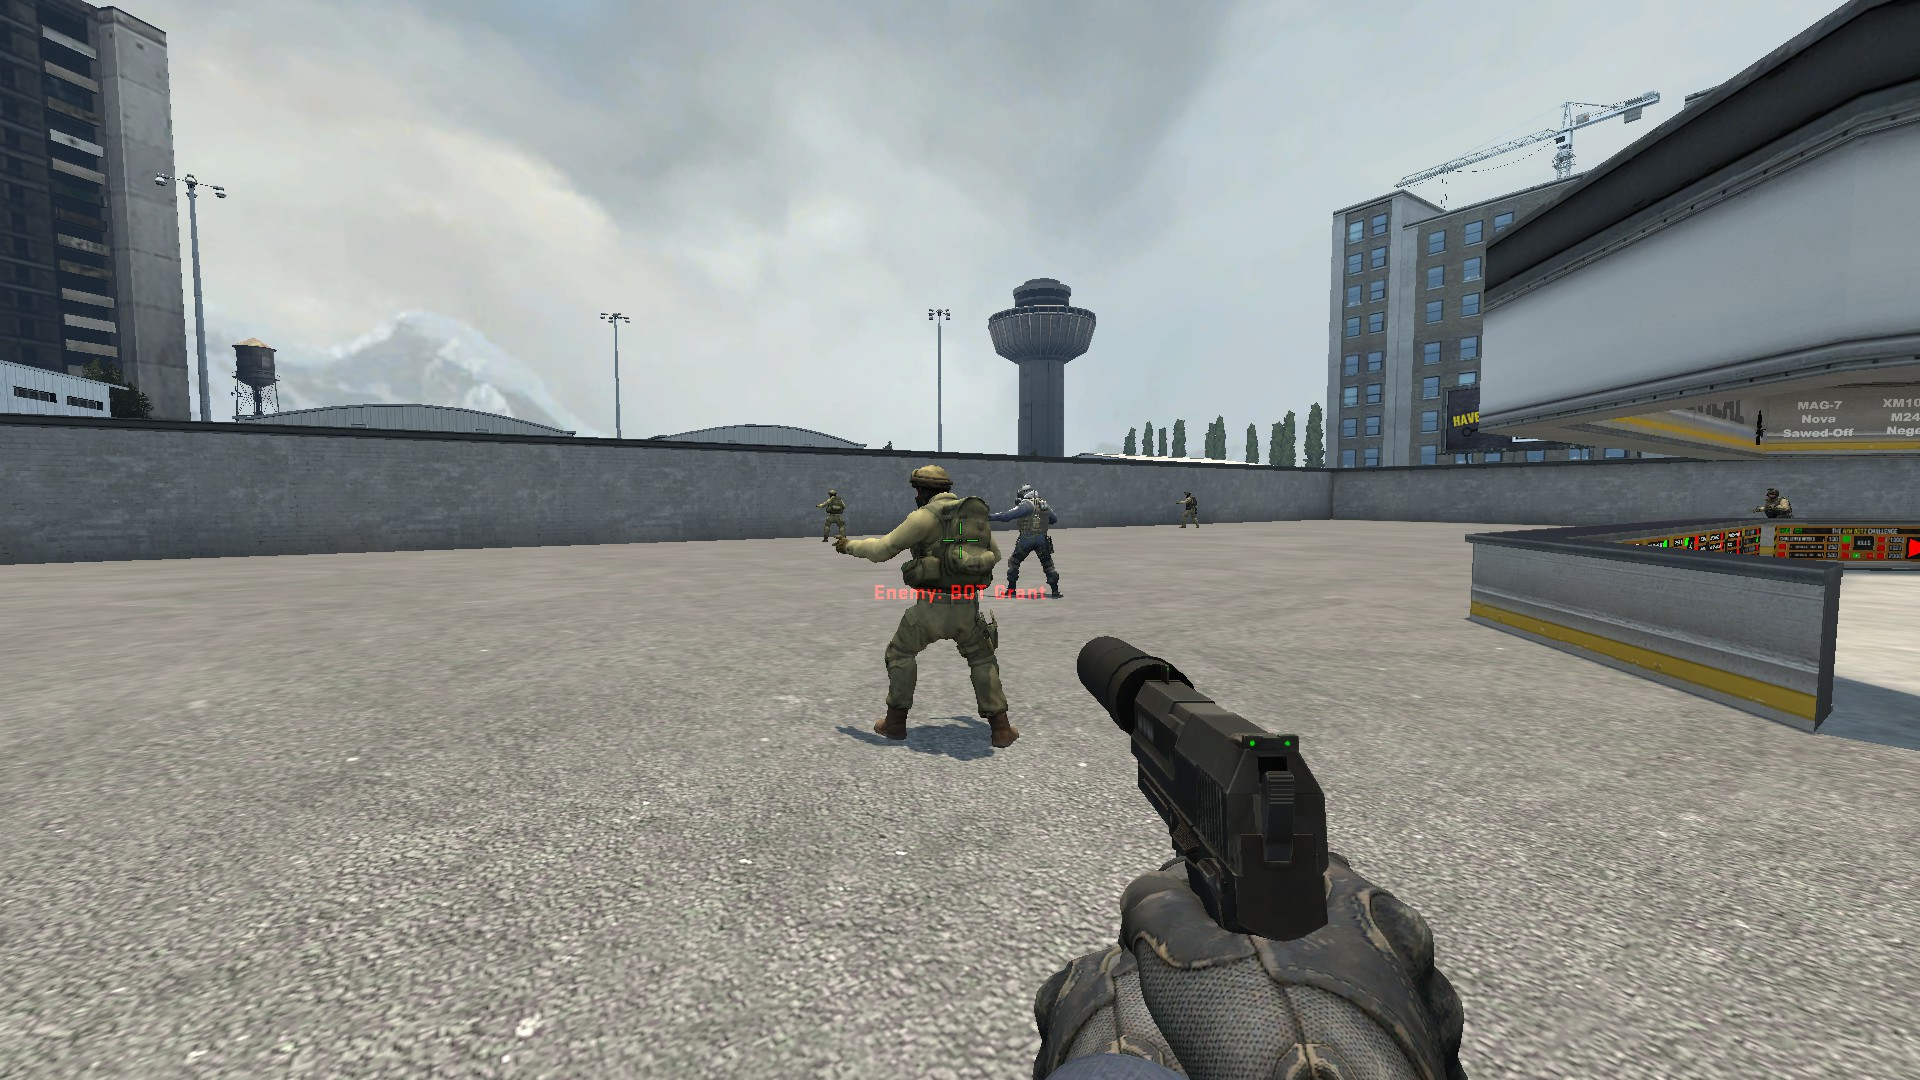ct: (832, 464, 1029, 752)
ct head: (907, 462, 956, 520)
